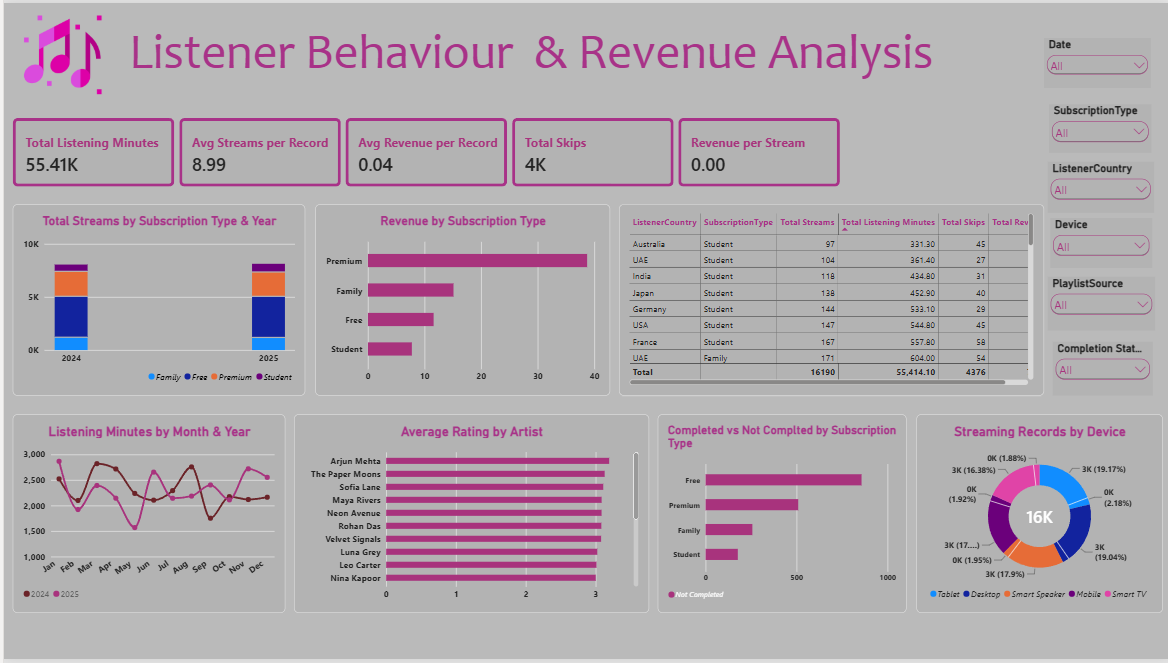

Layout of this report page (visuals, bound fields, positions):
{"tool":"powerbi","page":{"name":"Page 2","canvas":[1920,1080],"ordinal":1},"visuals":[{"type":"cardVisual","fields":{"Data":["Music_Streams.Total Listening Minutes","Music_Streams.Avg Streams per Record","Music_Streams.Avg Revenue per Record","Music_Streams.Total Skips","Music_Streams.Revenue per Stream"]},"box":[14.4,189.4,1364.7,113.2],"z":0},{"type":"columnChart","title":"Total Streams by Subscription  Type & Year","fields":{"Category":["Date.Year"],"Series":["Music_Streams.SubscriptionType"],"Y":["Sum(Music_Streams.StreamCount)"]},"box":[14.4,331.4,481.6,314.9],"z":1},{"type":"clusteredBarChart","title":"Revenue by Subscription Type","fields":{"Category":["Music_Streams.SubscriptionType"],"Y":["Sum(Music_Streams.RevenueUSD)"]},"box":[512.5,331.4,485.8,314.9],"z":2},{"type":"donutChart","title":"Streaming Records by Device","fields":{"Category":["Music_Streams.Device"],"Y":["Sum(Music_Streams.StreamCount)","Music_Streams.Total Records"]},"box":[1502.6,677.2,405.5,327.3],"z":3},{"type":"lineChart","title":"Listening Minutes by Month & Year","fields":{"Category":["Date.MonthName"],"Series":["Date.Year"],"Y":["Music_Streams.Total Listening Minutes"]},"box":[14.4,677.2,448.7,327.3],"z":4},{"type":"clusteredBarChart","title":"Average Rating by Artist","fields":{"Category":["Artist.ArtistName"],"Y":["Avg(Music_Streams.Rating)"]},"box":[477.5,677.2,584.6,327.3],"z":5},{"type":"barChart","title":"Completed vs Not Complted by  Subscription Type","fields":{"Category":["Music_Streams.SubscriptionType"],"Series":["Music_Streams.Completion Status"],"Y":["Music_Streams.Total Records"]},"box":[1076.5,677.2,409.6,327.3],"z":6},{"type":"tableEx","fields":{"Values":["Music_Streams.ListenerCountry","Music_Streams.SubscriptionType","Music_Streams.Total Streams","Music_Streams.Total Listening Minutes","Music_Streams.Total Skips","Music_Streams.Total Revenue"]},"box":[1012.7,331.4,699.8,314.9],"z":7},{"type":"slicer","fields":{"Values":["Date.Date"]},"box":[1712.5,57.6,176,82],"z":8},{"type":"slicer","fields":{"Values":["Music_Streams.SubscriptionType"]},"box":[1720.8,166.7,168.8,80.3],"z":9},{"type":"slicer","fields":{"Values":["Music_Streams.ListenerCountry"]},"box":[1718.7,261.4,175,84.4],"z":10},{"type":"slicer","fields":{"Values":["Music_Streams.Device"]},"box":[1722.8,354,168,82],"z":11},{"type":"slicer","fields":{"Values":["Music_Streams.PlaylistSource"]},"box":[1718.7,450.8,177,88.5],"z":12},{"type":"slicer","fields":{"Values":["Music_Streams.Completion Status"]},"box":[1726.9,557.8,164.7,88.5],"z":13},{"type":"textbox","box":[205.8,30.9,1366.7,109.1],"z":14},{"type":"image","box":[14.4,20.6,164.7,129.7],"z":15}]}

Visuals, with their boxes in screenshot pixels (x1, y1, x2, y2), scaled from the page's 1920x1080 canvas onto the 1168x663 screenshot:
cardVisual - Music_Streams.Total Listening Minutes x Music_Streams.Avg Streams per Record: (9, 116, 839, 186)
"Total Streams by Subscription  Type & Year" columnChart: (9, 203, 302, 397)
"Revenue by Subscription Type" clusteredBarChart: (312, 203, 607, 397)
"Streaming Records by Device" donutChart: (914, 416, 1161, 617)
"Listening Minutes by Month & Year" lineChart: (9, 416, 282, 617)
"Average Rating by Artist" clusteredBarChart: (290, 416, 646, 617)
"Completed vs Not Complted by  Subscription Type" barChart: (655, 416, 904, 617)
tableEx - Music_Streams.ListenerCountry x Music_Streams.SubscriptionType: (616, 203, 1042, 397)
slicer - Date.Date: (1042, 35, 1149, 86)
slicer - Music_Streams.SubscriptionType: (1047, 102, 1150, 152)
slicer - Music_Streams.ListenerCountry: (1046, 160, 1152, 212)
slicer - Music_Streams.Device: (1048, 217, 1150, 268)
slicer - Music_Streams.PlaylistSource: (1046, 277, 1153, 331)
slicer - Music_Streams.Completion Status: (1051, 342, 1151, 397)
textbox: (125, 19, 957, 86)
image: (9, 13, 109, 92)
